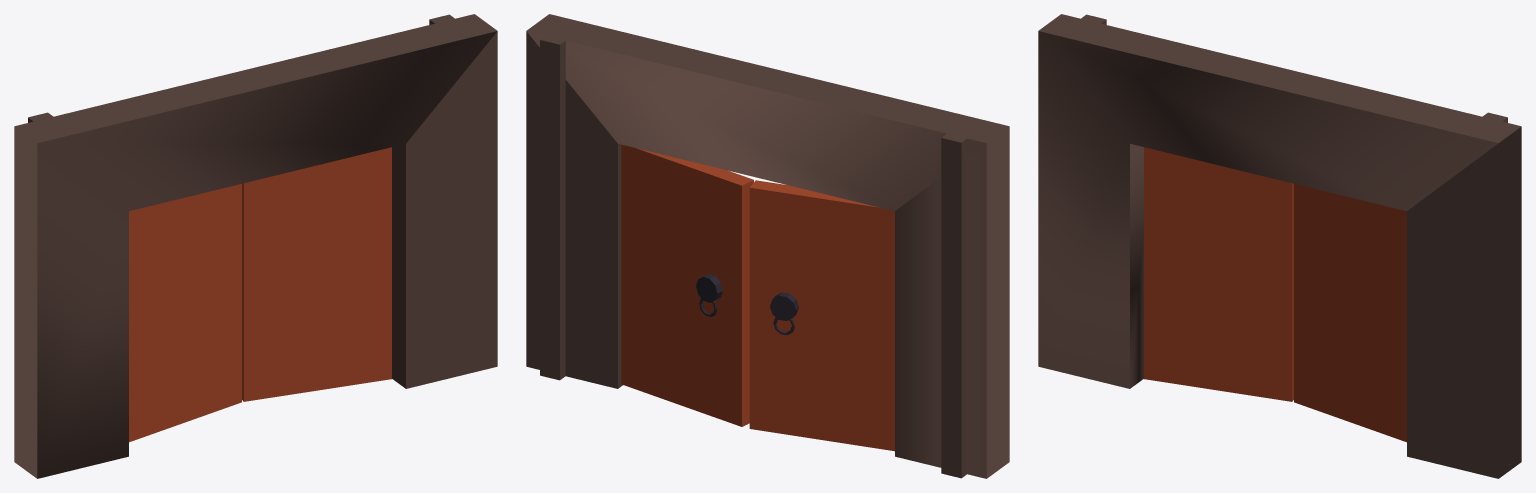
The picture shows the model from 3 angles, left to right: view 1: azimuth 30°, elevation 25°; view 2: azimuth 150°, elevation 25°; view 3: azimuth 330°, elevation 25°; orthographic projection.
Parts seen in each view (by area): view 1: 立方体_2_2, 立方体_2, 立方体_3; view 2: 立方体_2_2, 立方体_3, 立方体_2, 立方体, 立方体_1, 圆柱, 圆柱_1; view 3: 立方体_2_2, 立方体_3, 立方体_2.
Part boxes in pixels (left/top/right/bottom): 立方体_2_2: left=14, top=14, right=497, bottom=478; 立方体_2: left=242, top=147, right=391, bottom=401; 立方体_3: left=129, top=184, right=241, bottom=442; 立方体_2_2: left=526, top=14, right=1009, bottom=478; 立方体_3: left=749, top=180, right=894, bottom=451; 立方体_2: left=621, top=144, right=753, bottom=426; 立方体: left=941, top=121, right=984, bottom=478; 立方体_1: left=540, top=23, right=581, bottom=380; 圆柱: left=770, top=292, right=798, bottom=320; 圆柱_1: left=696, top=274, right=722, bottom=302; 立方体_2_2: left=1038, top=14, right=1521, bottom=478; 立方体_3: left=1144, top=147, right=1293, bottom=401; 立方体_2: left=1294, top=184, right=1406, bottom=442.
Size of the model in its own units: 115 by 79.87 by 15.52.
